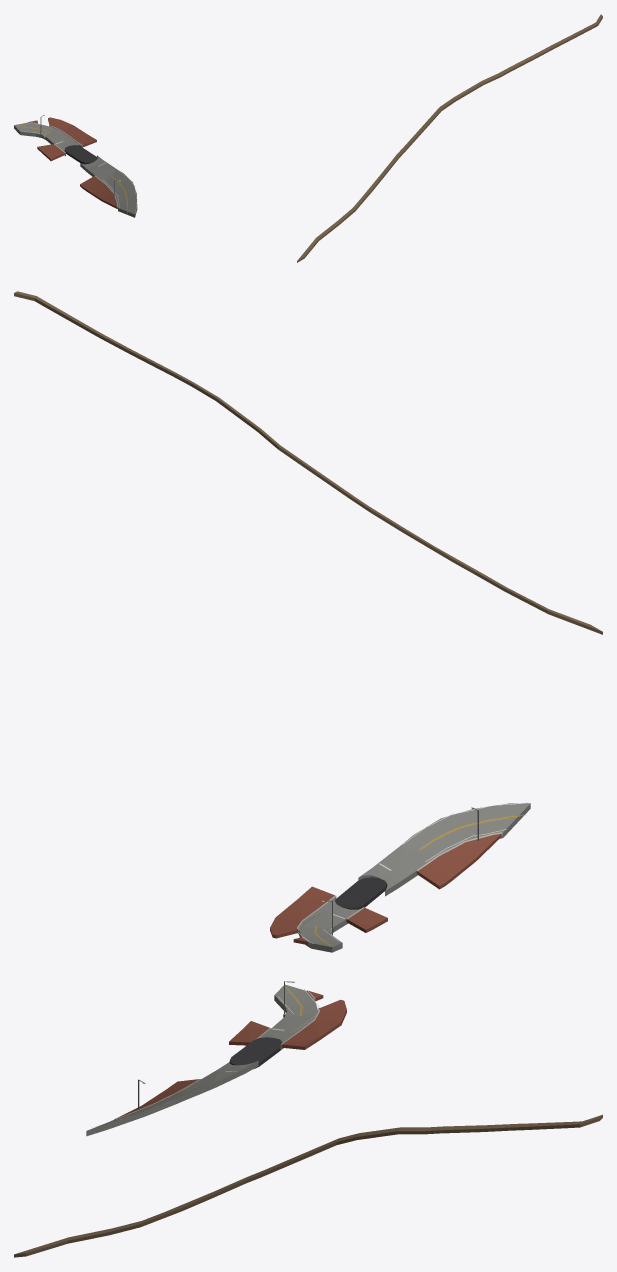
3 renders of one model, top to bottom at view 1: azimuth 30°, elevation 25°; view 2: azimuth 150°, elevation 25°; view 3: azimuth 330°, elevation 25°, orthographic. The views are drawn at different scales.
Size of the model in its own units: 148 by 62.07 by 146.
